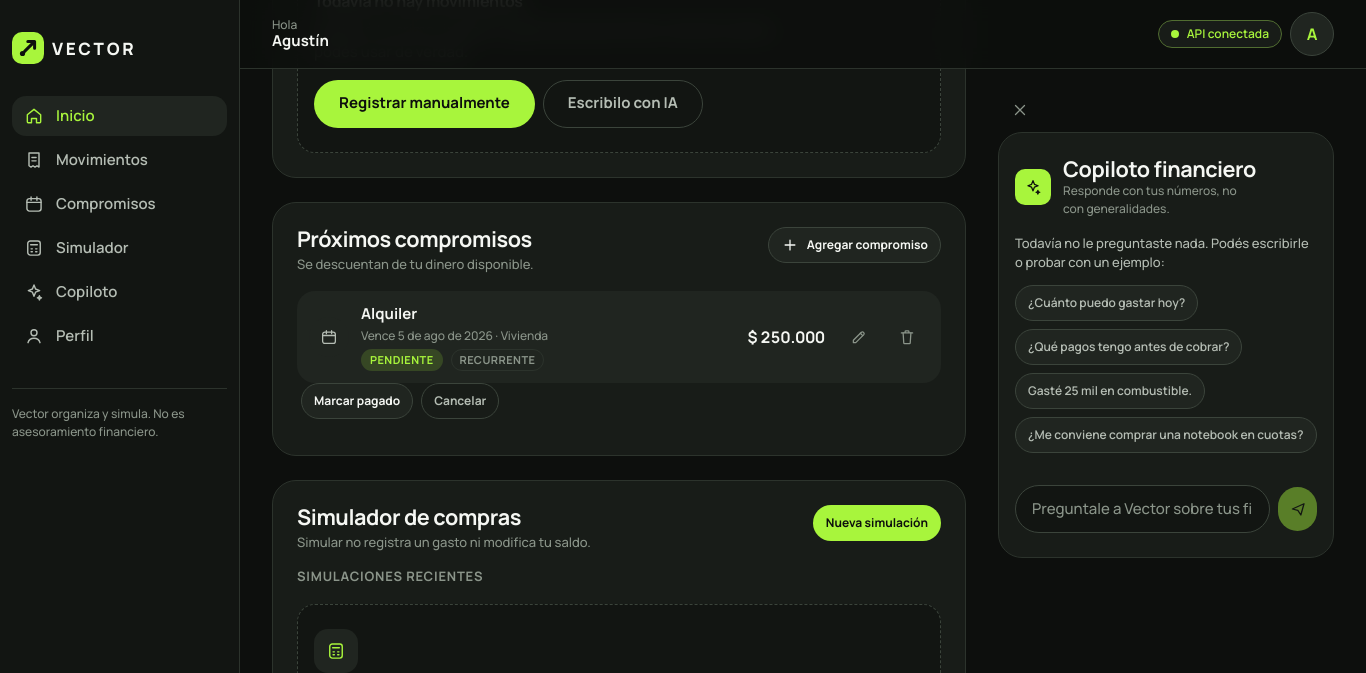
DashboardPage › ante un 500 al marcar pagado muestra el error y no simula que salió bien
(page scrolled)
Click the button with aria-label "Marcar Alquiler como pagado": (357, 401) left=301, top=383, right=413, bottom=419
(page scrolled)
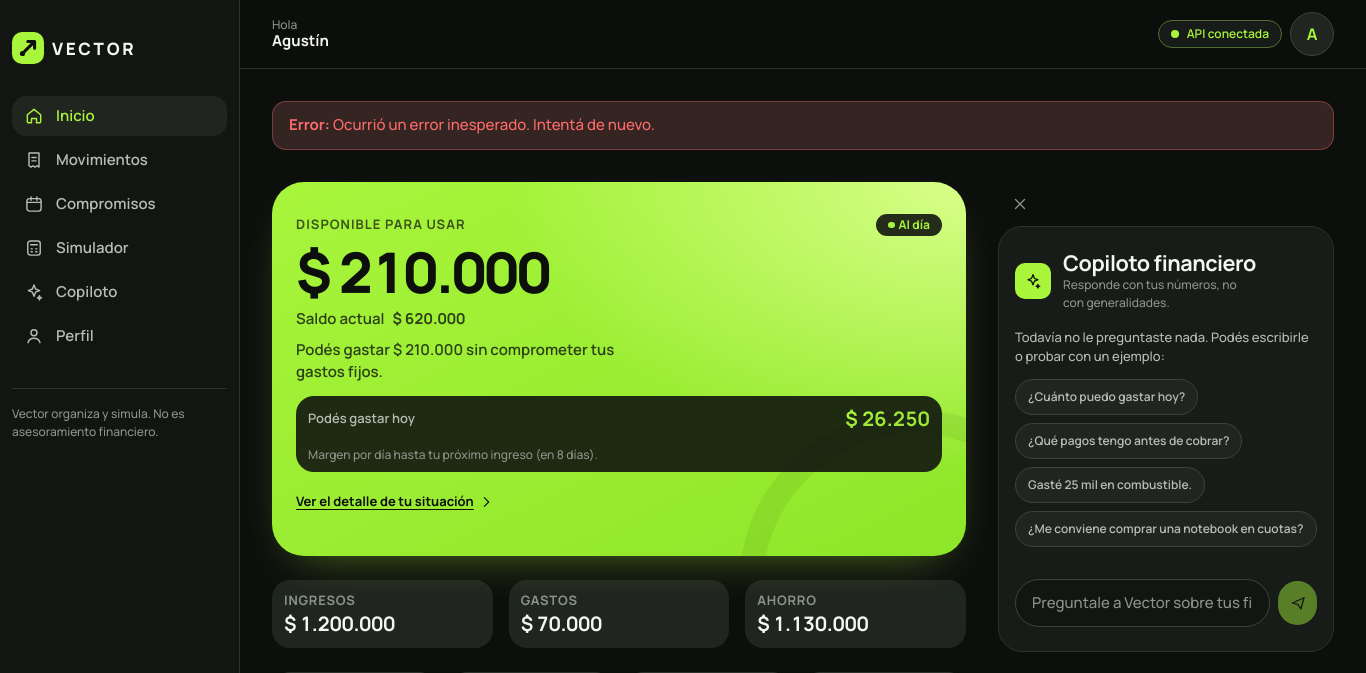
Expected: the text "Error: Ocurrió un error inesperado. Intentá de nuevo." is shown, left=272, top=101, right=1334, bottom=150
